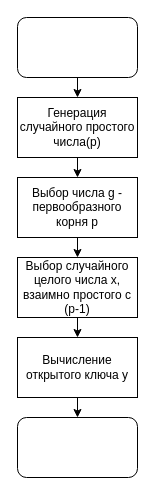
Some shapes in this 155 by 495 pixel diagram are drawn without their labels. The centre of each missing label's shape, as x and y in pixels:
"Генерация ключей Elgamal Конец" goes at (x=77, y=447).
"Генерация ключей Elgamal Начало" goes at (x=77, y=47).
